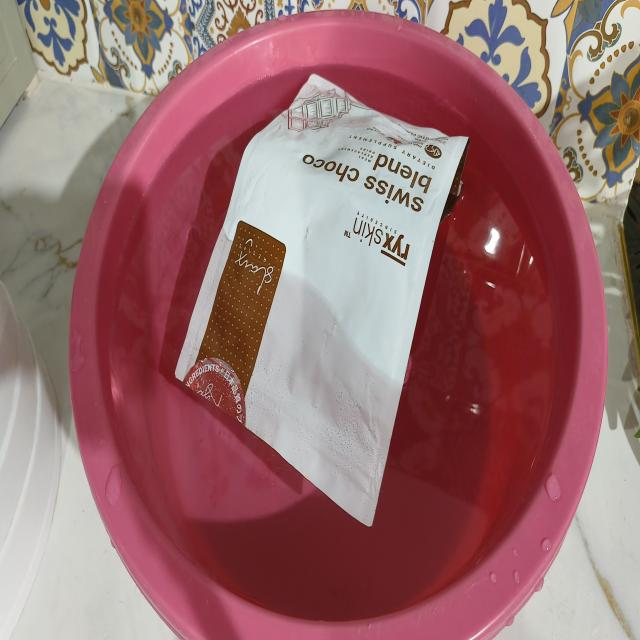Plastic Pouch: (175, 75, 469, 526)
